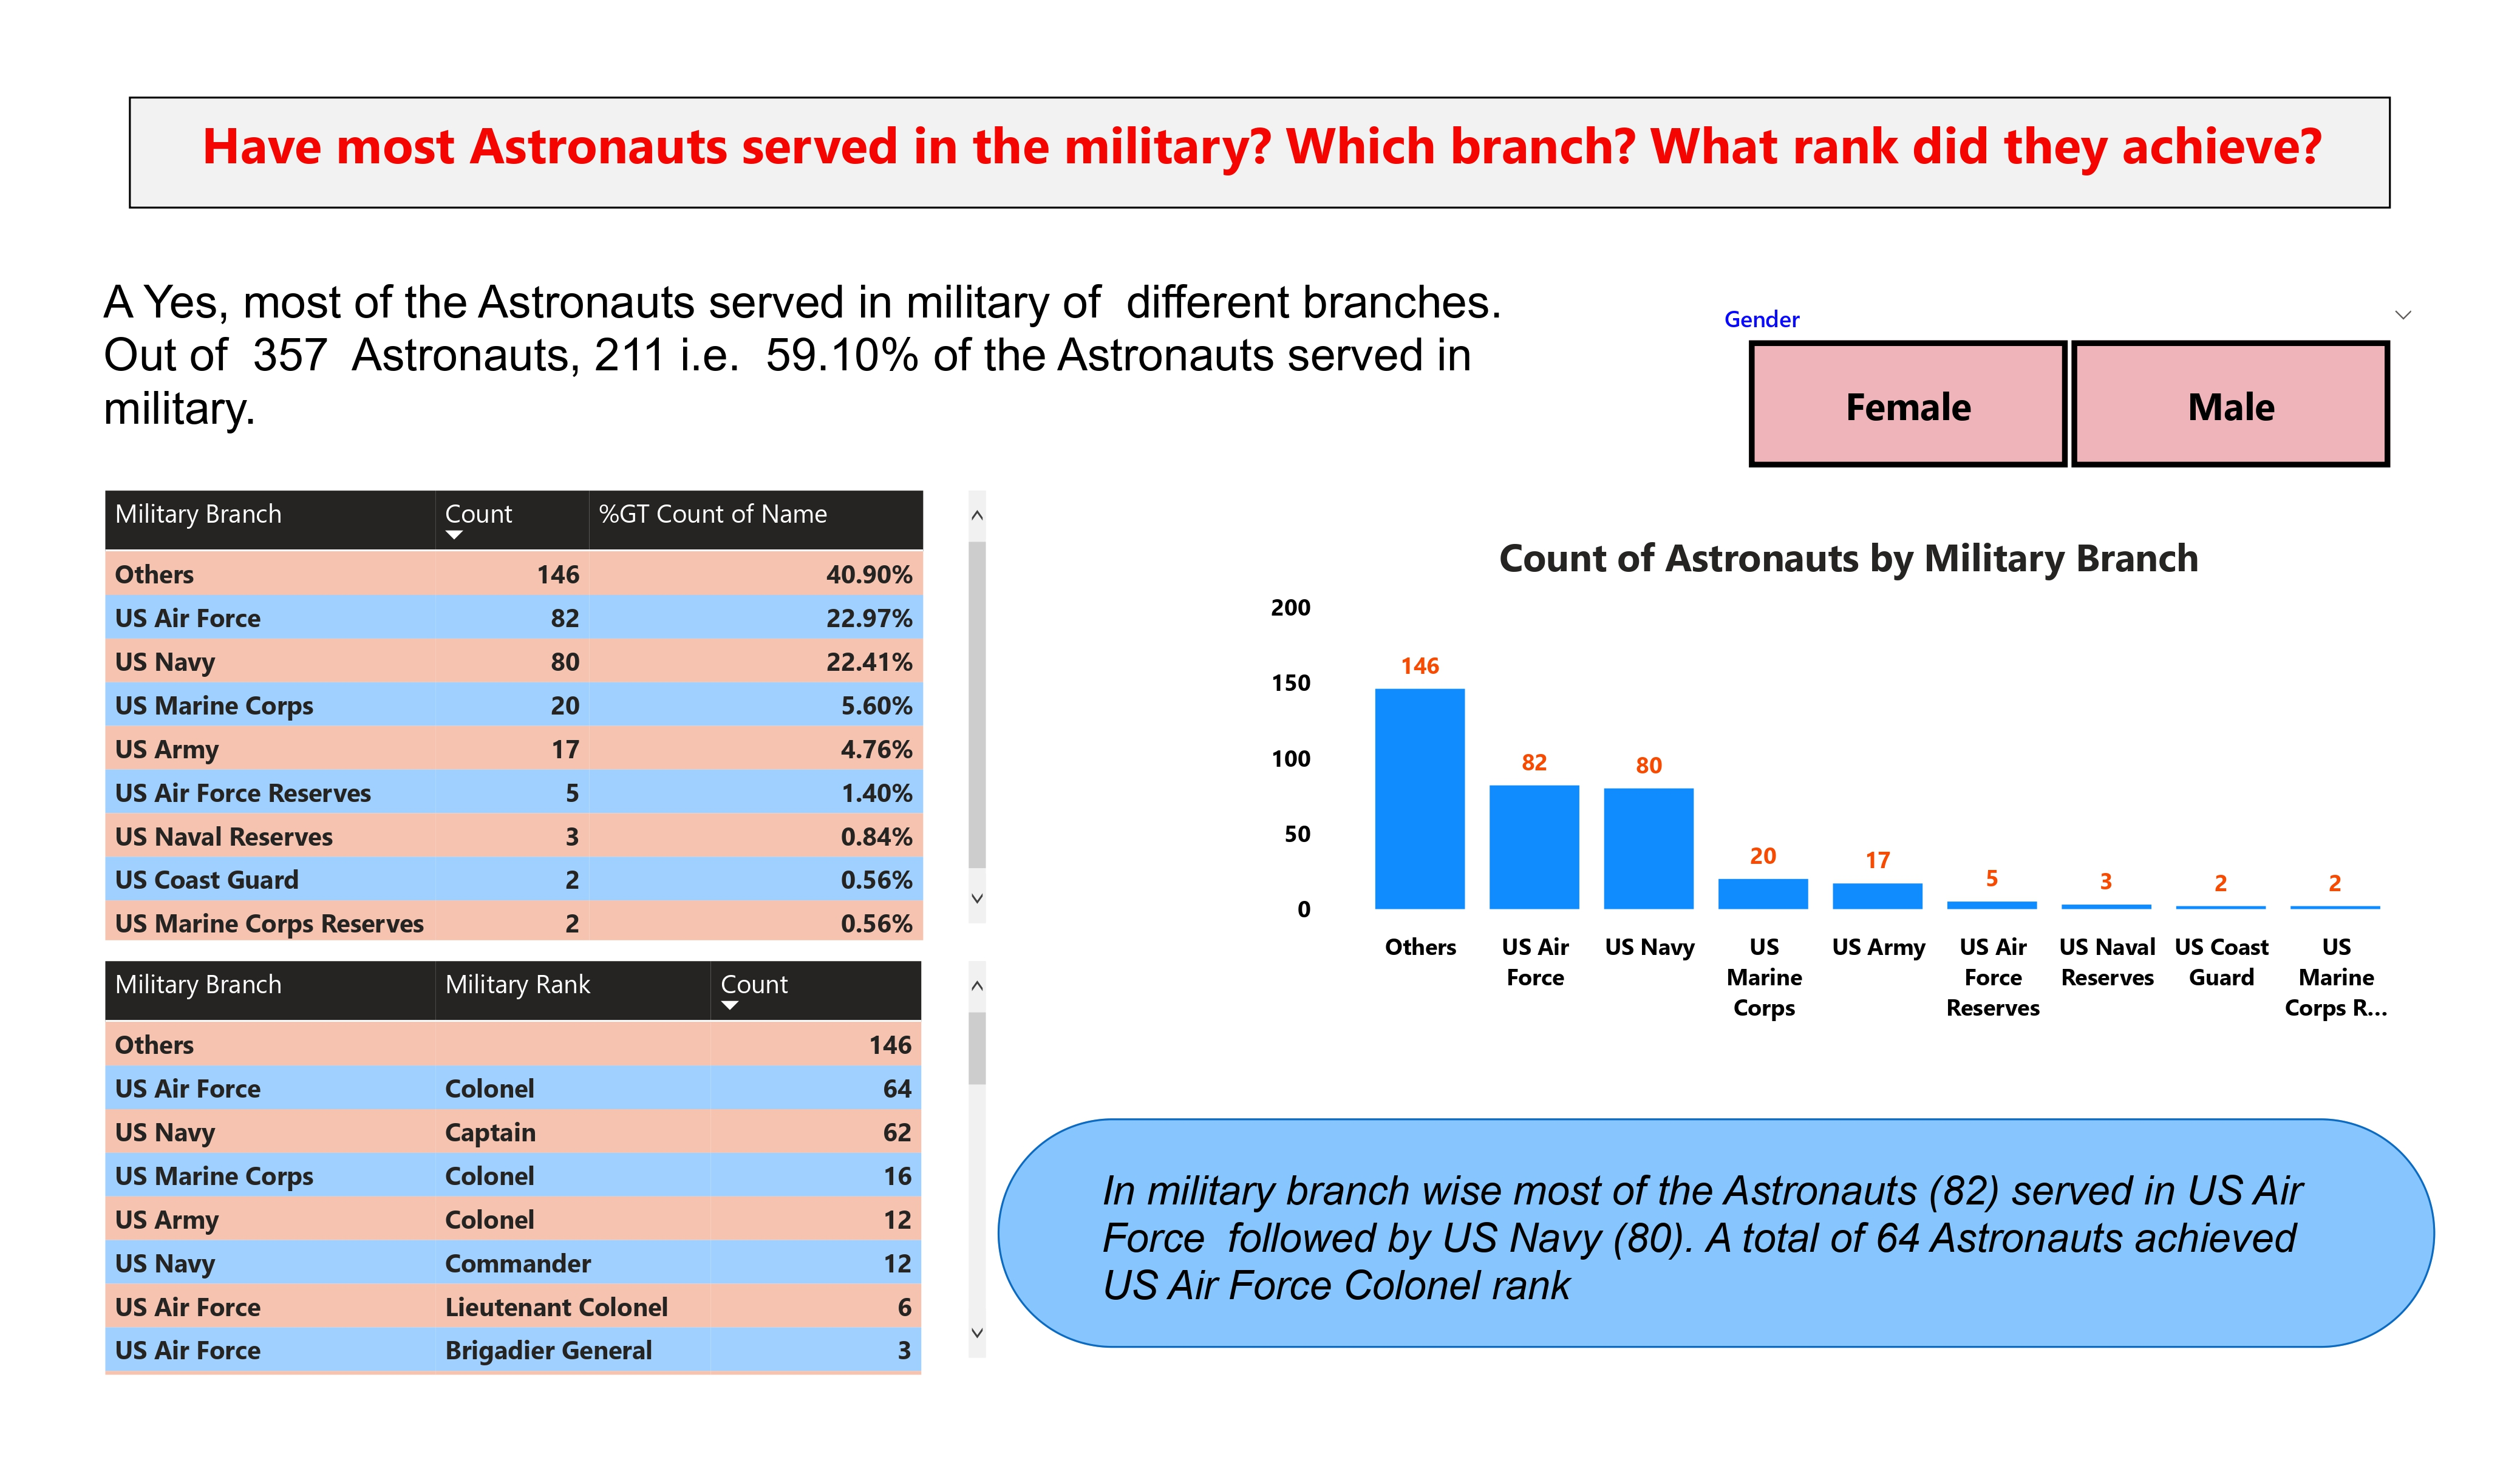

What the dashboard file says about the page in this screenshot:
{"tool":"powerbi","page":{"name":"Military Service","canvas":[1280,720],"ordinal":6},"visuals":[{"type":"shape","box":[502.3,566.1,757.6,120.9],"z":0},{"type":"columnChart","title":"Count of Astronauts by Military Branch","fields":{"Category":["astronauts_Kaggle.Military Branch"],"Y":["astronauts_Kaggle.Name"]},"box":[616.5,265,619.4,273.5],"z":1000},{"type":"tableEx","fields":{"Values":["astronauts_Kaggle.Military Branch","astronauts_Kaggle.Name","Divide(CountNonNull(astronauts_Kaggle.Name), ScopedEval(CountNonNull(astronauts_Kaggle.Name), []))"]},"box":[25.2,230.1,475.4,246.9],"z":2000},{"type":"tableEx","fields":{"Values":["astronauts_Kaggle.Military Branch","astronauts_Kaggle.Military Rank","astronauts_Kaggle.Name"]},"box":[25.2,477.1,475.4,228.5],"z":3000},{"type":"textbox","box":[43.9,27.1,1192.3,59.4],"z":4000},{"type":"textbox","box":[25.2,115.9,791.2,99.1],"z":5000},{"type":"textbox","box":[551,586.2,656.8,87.3],"z":6000},{"type":"slicer","fields":{"Values":["astronauts_Kaggle.Gender"]},"box":[871.7,130.4,388.3,99.2],"z":8000}]}

Visuals, with their boxes on the page's 1280x720 design canvas (x1, y1, x2, y2). These are canvas units, not pixel positions in the 2520x1457 screenshot, which may show the page scaled, cropped or inside an application window:
shape: <region>502, 566, 1260, 687</region>
"Count of Astronauts by Military Branch" columnChart: <region>616, 265, 1236, 538</region>
tableEx - astronauts_Kaggle.Military Branch x astronauts_Kaggle.Name: <region>25, 230, 501, 477</region>
tableEx - astronauts_Kaggle.Military Branch x astronauts_Kaggle.Military Rank: <region>25, 477, 501, 706</region>
textbox: <region>44, 27, 1236, 86</region>
textbox: <region>25, 116, 816, 215</region>
textbox: <region>551, 586, 1208, 674</region>
slicer - astronauts_Kaggle.Gender: <region>872, 130, 1260, 230</region>
